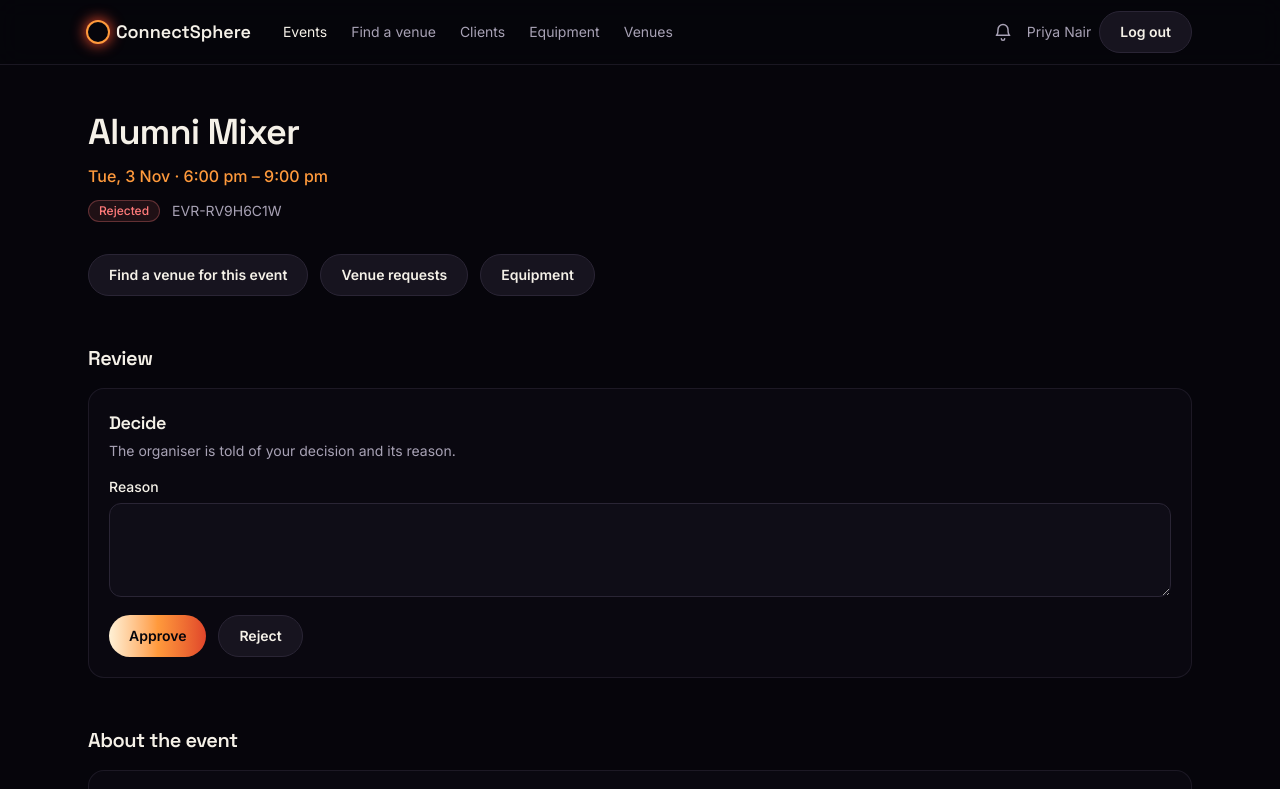
it: SCRUM-31 AC4, AC6 deciding › changes a rejection to an approval with a reason (AC6)
The width and height of the screenshot is (1280, 789).
Type "The atrium reopened." into the text box labelled "Reason". click: (640, 550)
box: [109,503,1171,597]
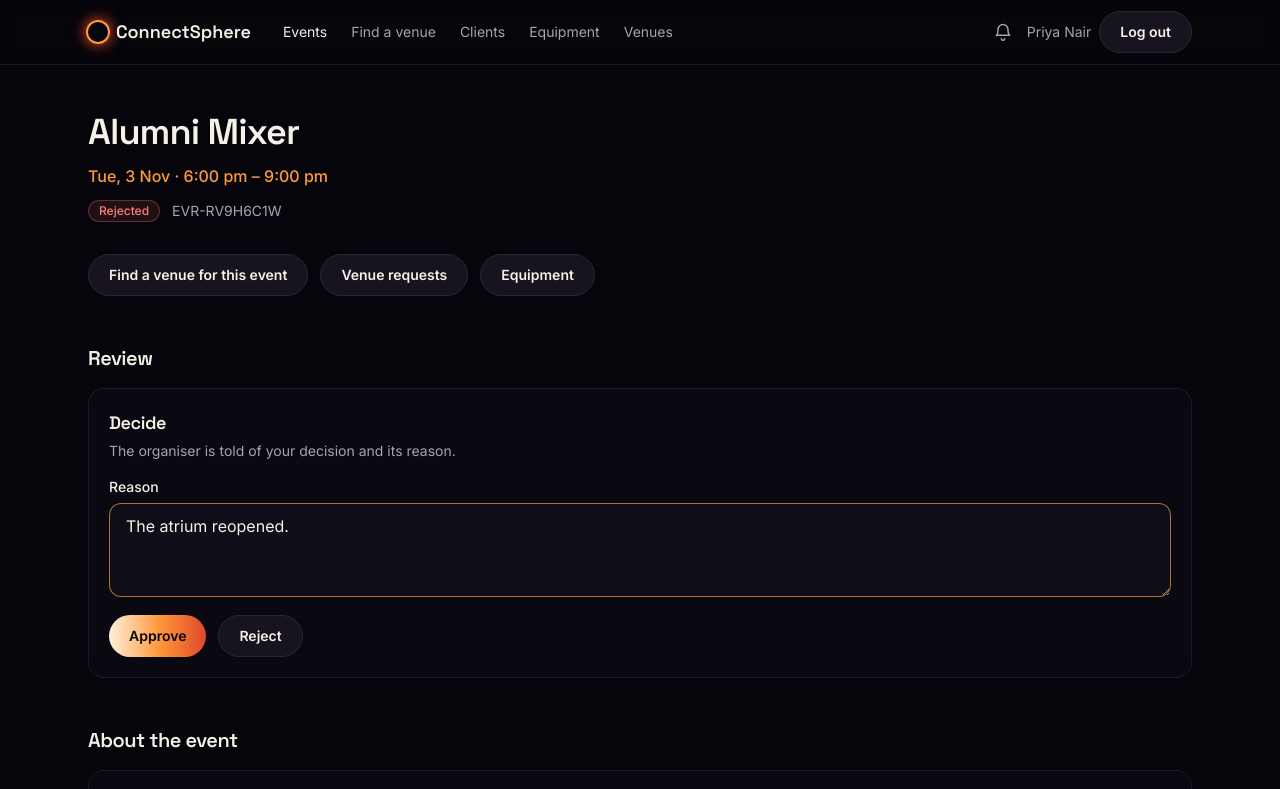
Click the button "Approve". click: (158, 636)
box: [109,615,206,657]
(page scrolled)
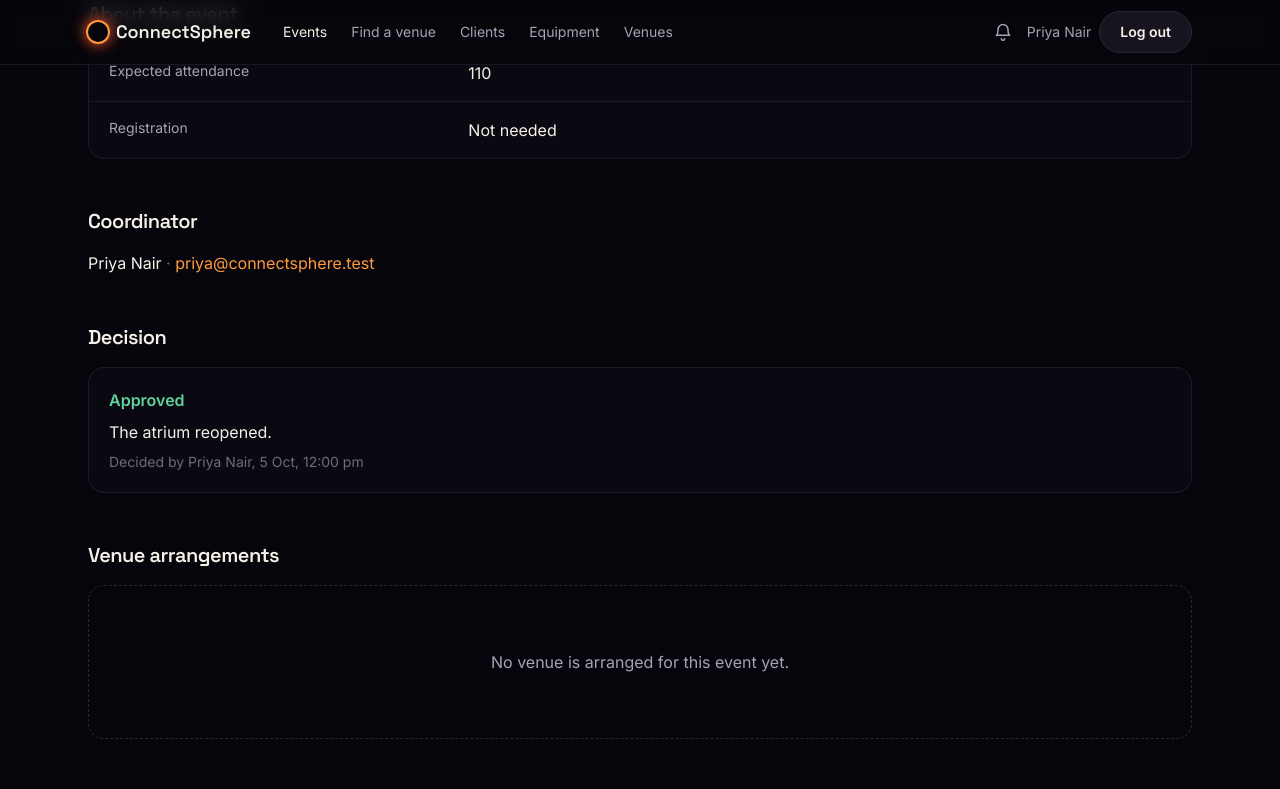
Now the text "The atrium reopened." is shown, box [109,422,272,442]
Now the text "Approved" is shown, box [109,390,185,410]
